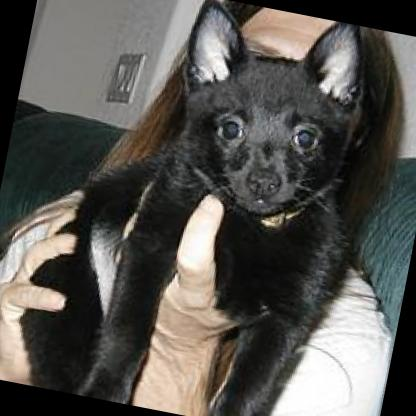schipperke: (4, 0, 397, 416)
